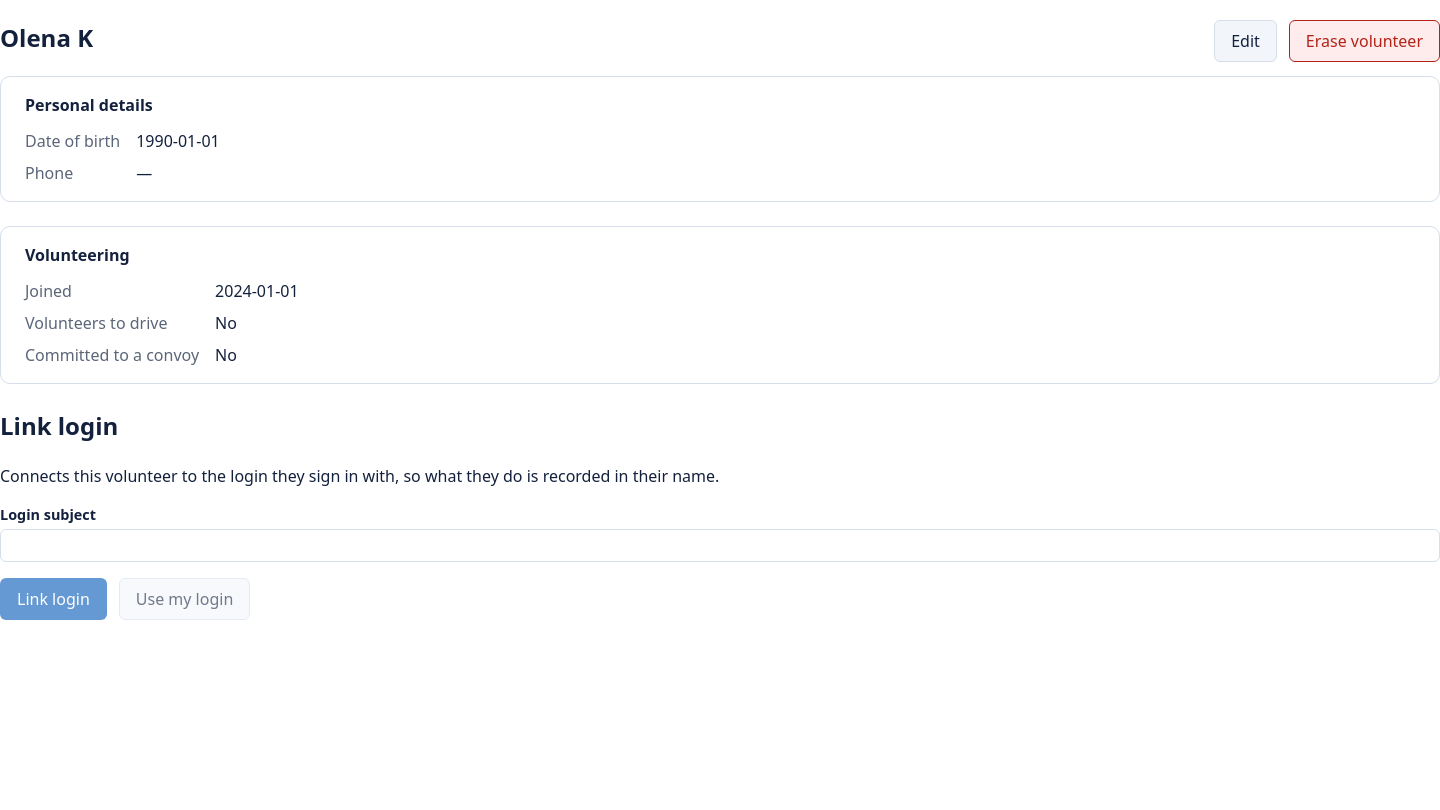
Test case: a volunteer still on a live crew is not erased, and the reason is shown
Click the button "Erase volunteer": (1364, 41) [1289, 20, 1439, 62]
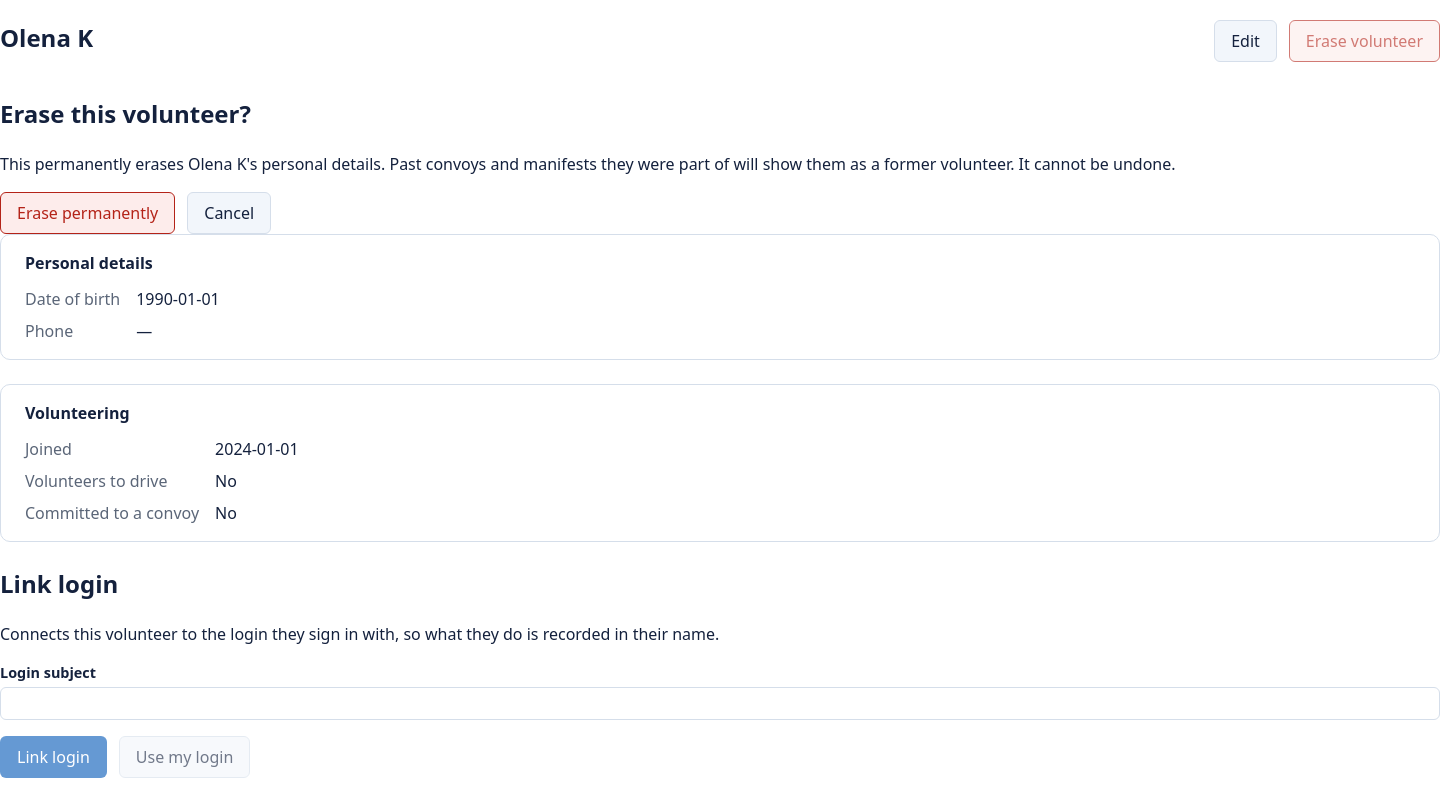
Click the button "Erase permanently": (88, 213) [0, 192, 175, 234]
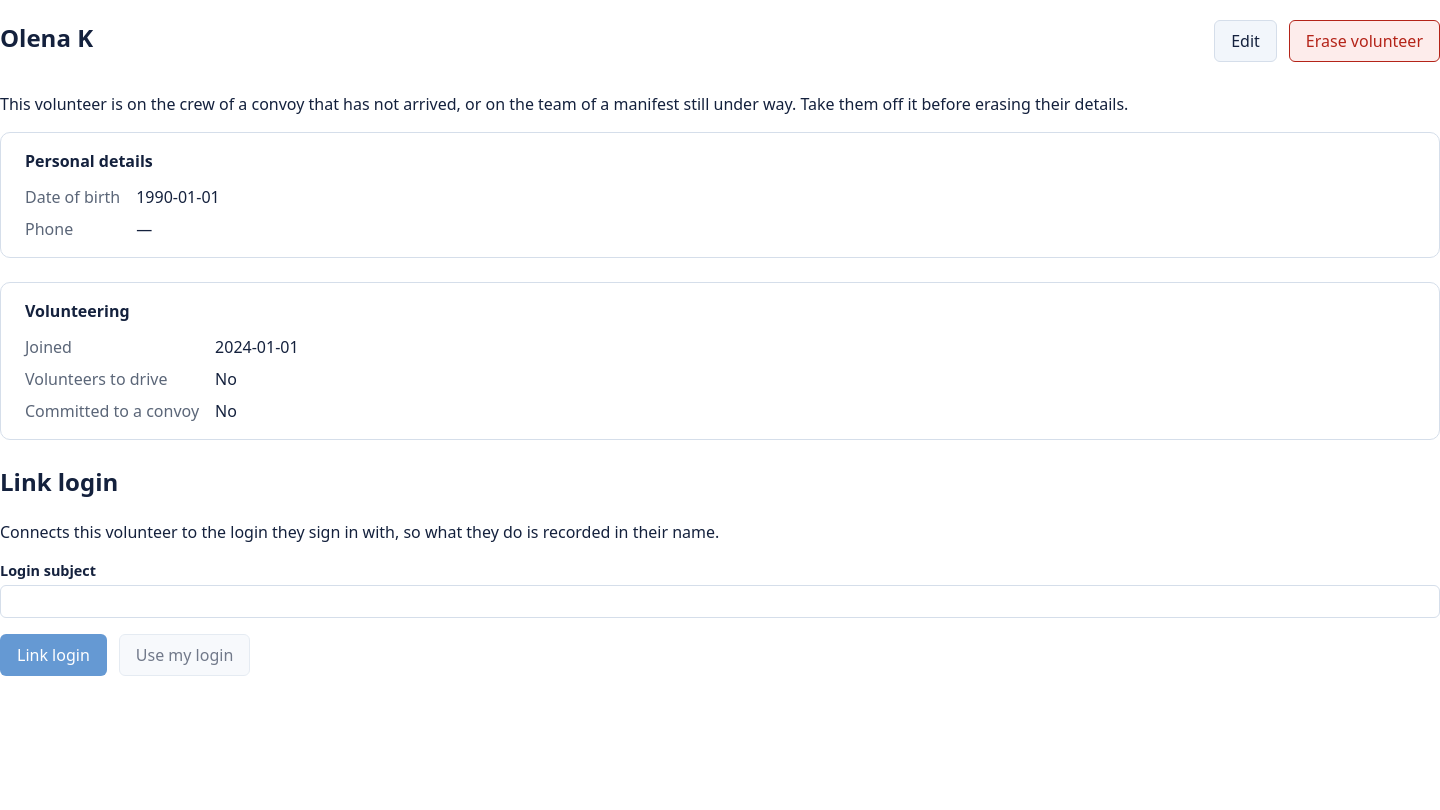
Expected: the message shows "Take them off it", [0, 93, 1128, 115]
